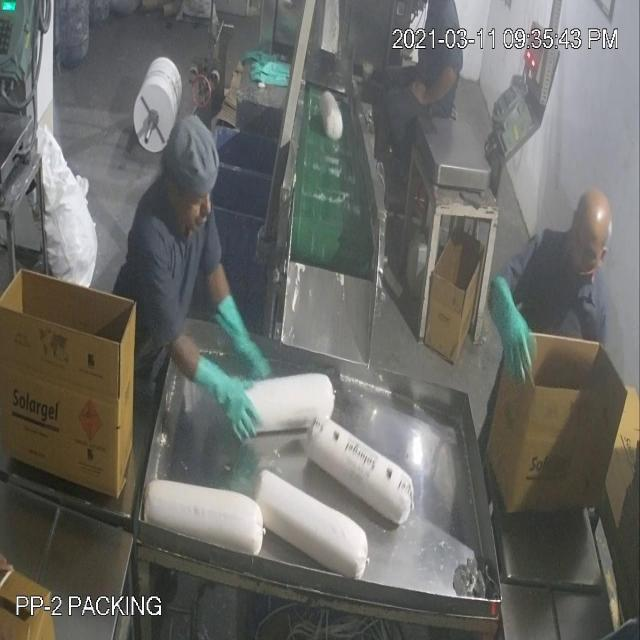No_Gloves: (49, 64, 514, 408)
